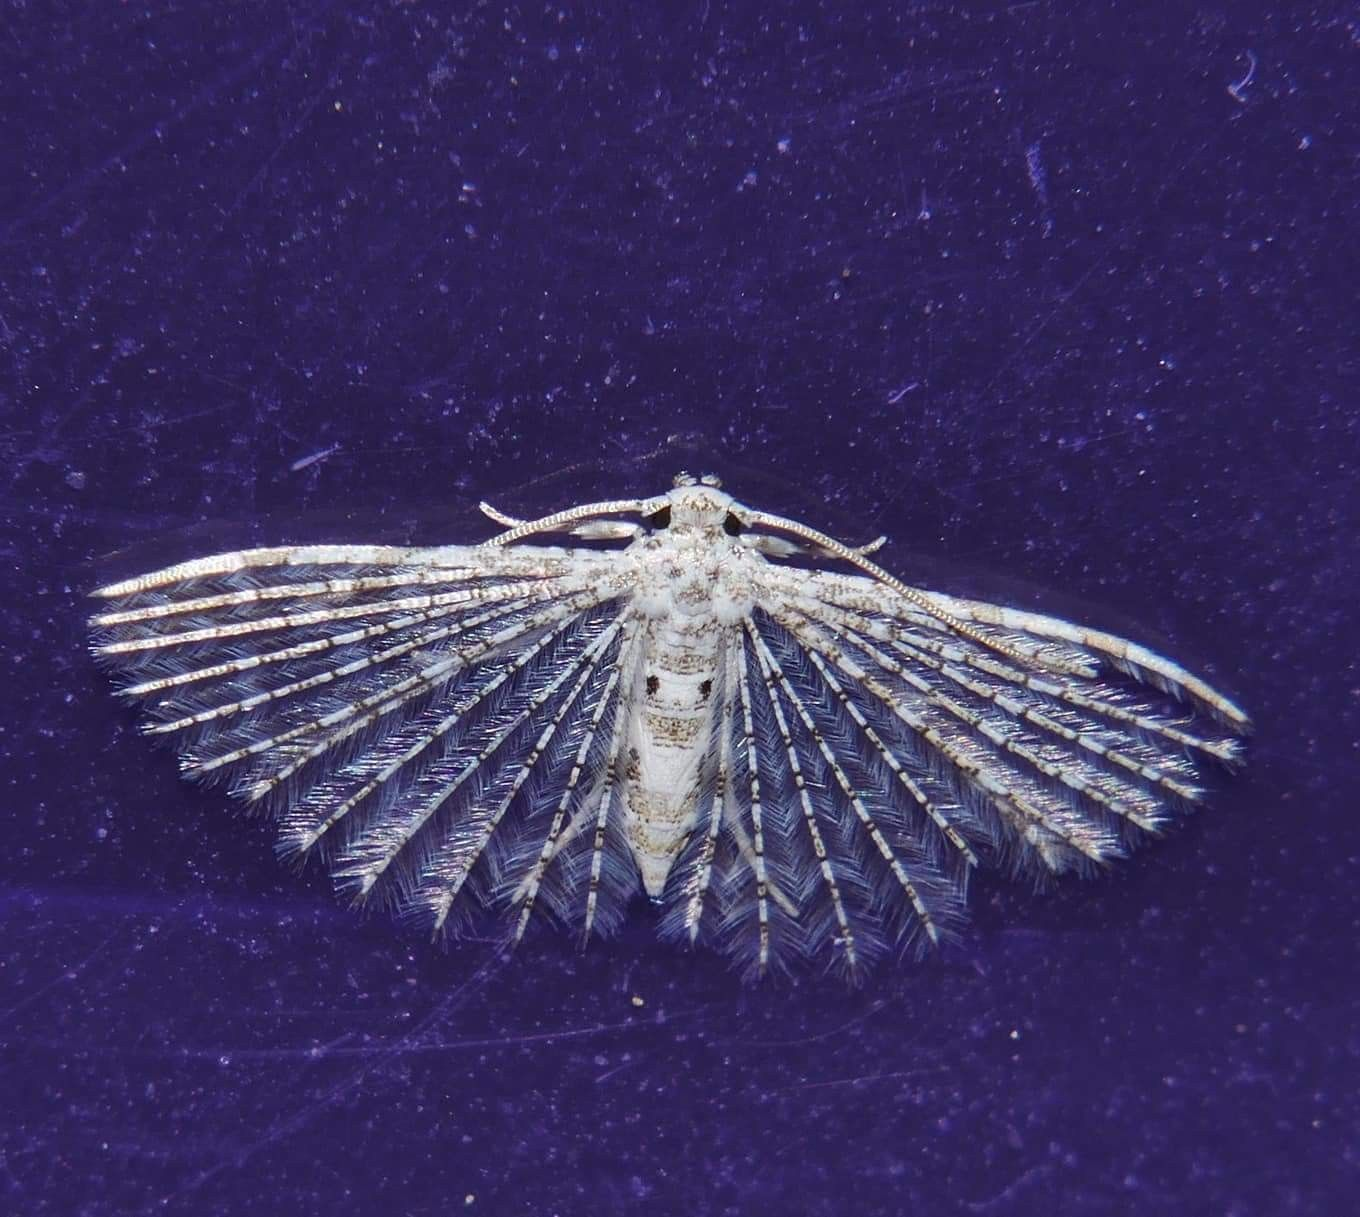Alucitidae: (80, 463, 1273, 999)
moth: (78, 460, 1271, 997)
